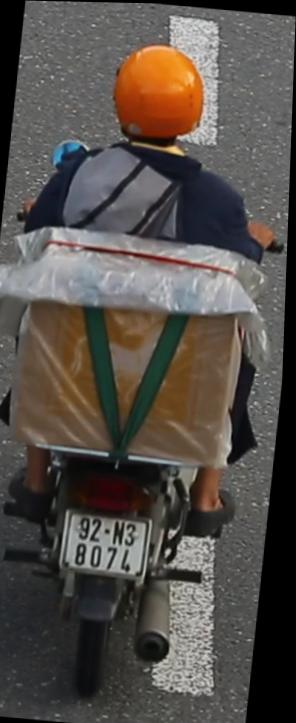LP: (57, 503, 160, 587)
helmet: (106, 36, 214, 163)
